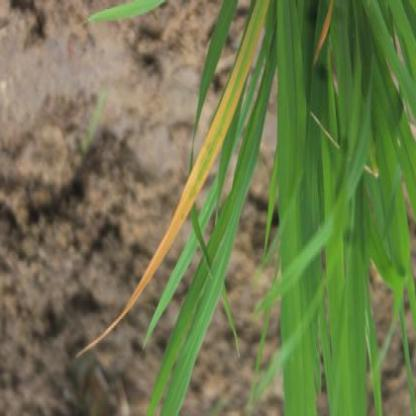Tungro: (127, 5, 270, 319)
